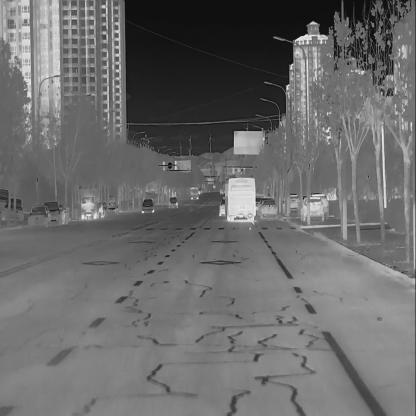bus: (189, 184, 200, 200)
car: (42, 198, 70, 226), (1, 196, 26, 225), (300, 196, 324, 223), (26, 204, 52, 228), (308, 192, 330, 219), (259, 198, 279, 220), (140, 198, 155, 214), (286, 192, 300, 208), (105, 199, 119, 214), (219, 198, 226, 217), (254, 196, 262, 211), (168, 196, 178, 207)
truck: (224, 173, 256, 222), (79, 186, 104, 221)
